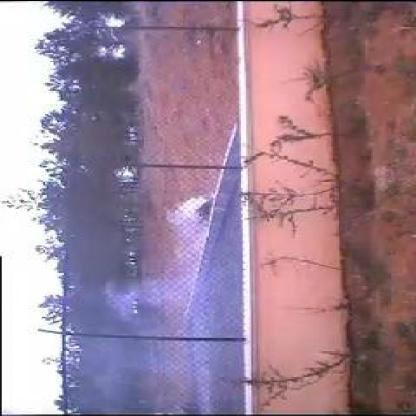-: (83, 194, 243, 360)
